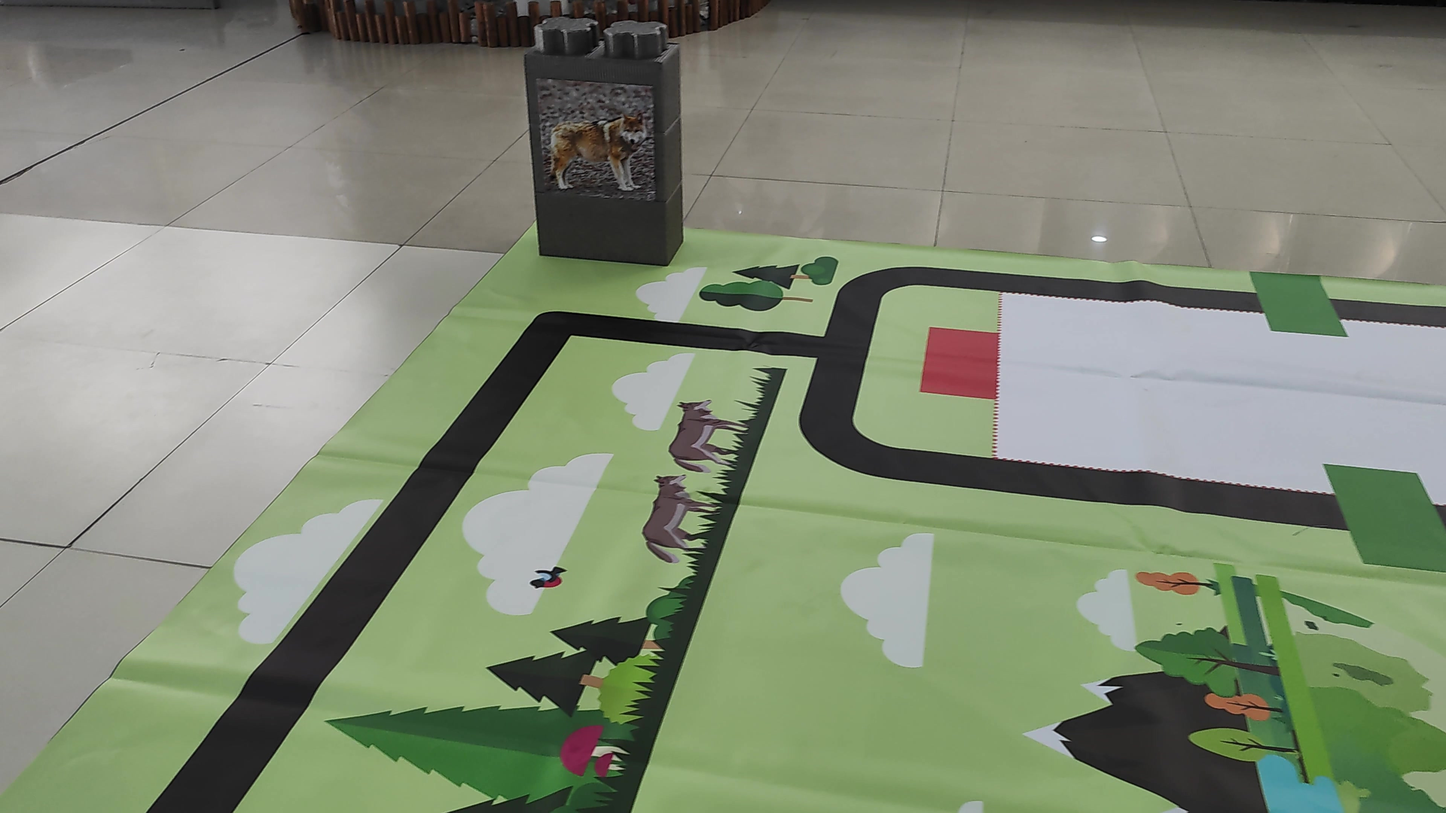wolf: (538, 82, 647, 196)
